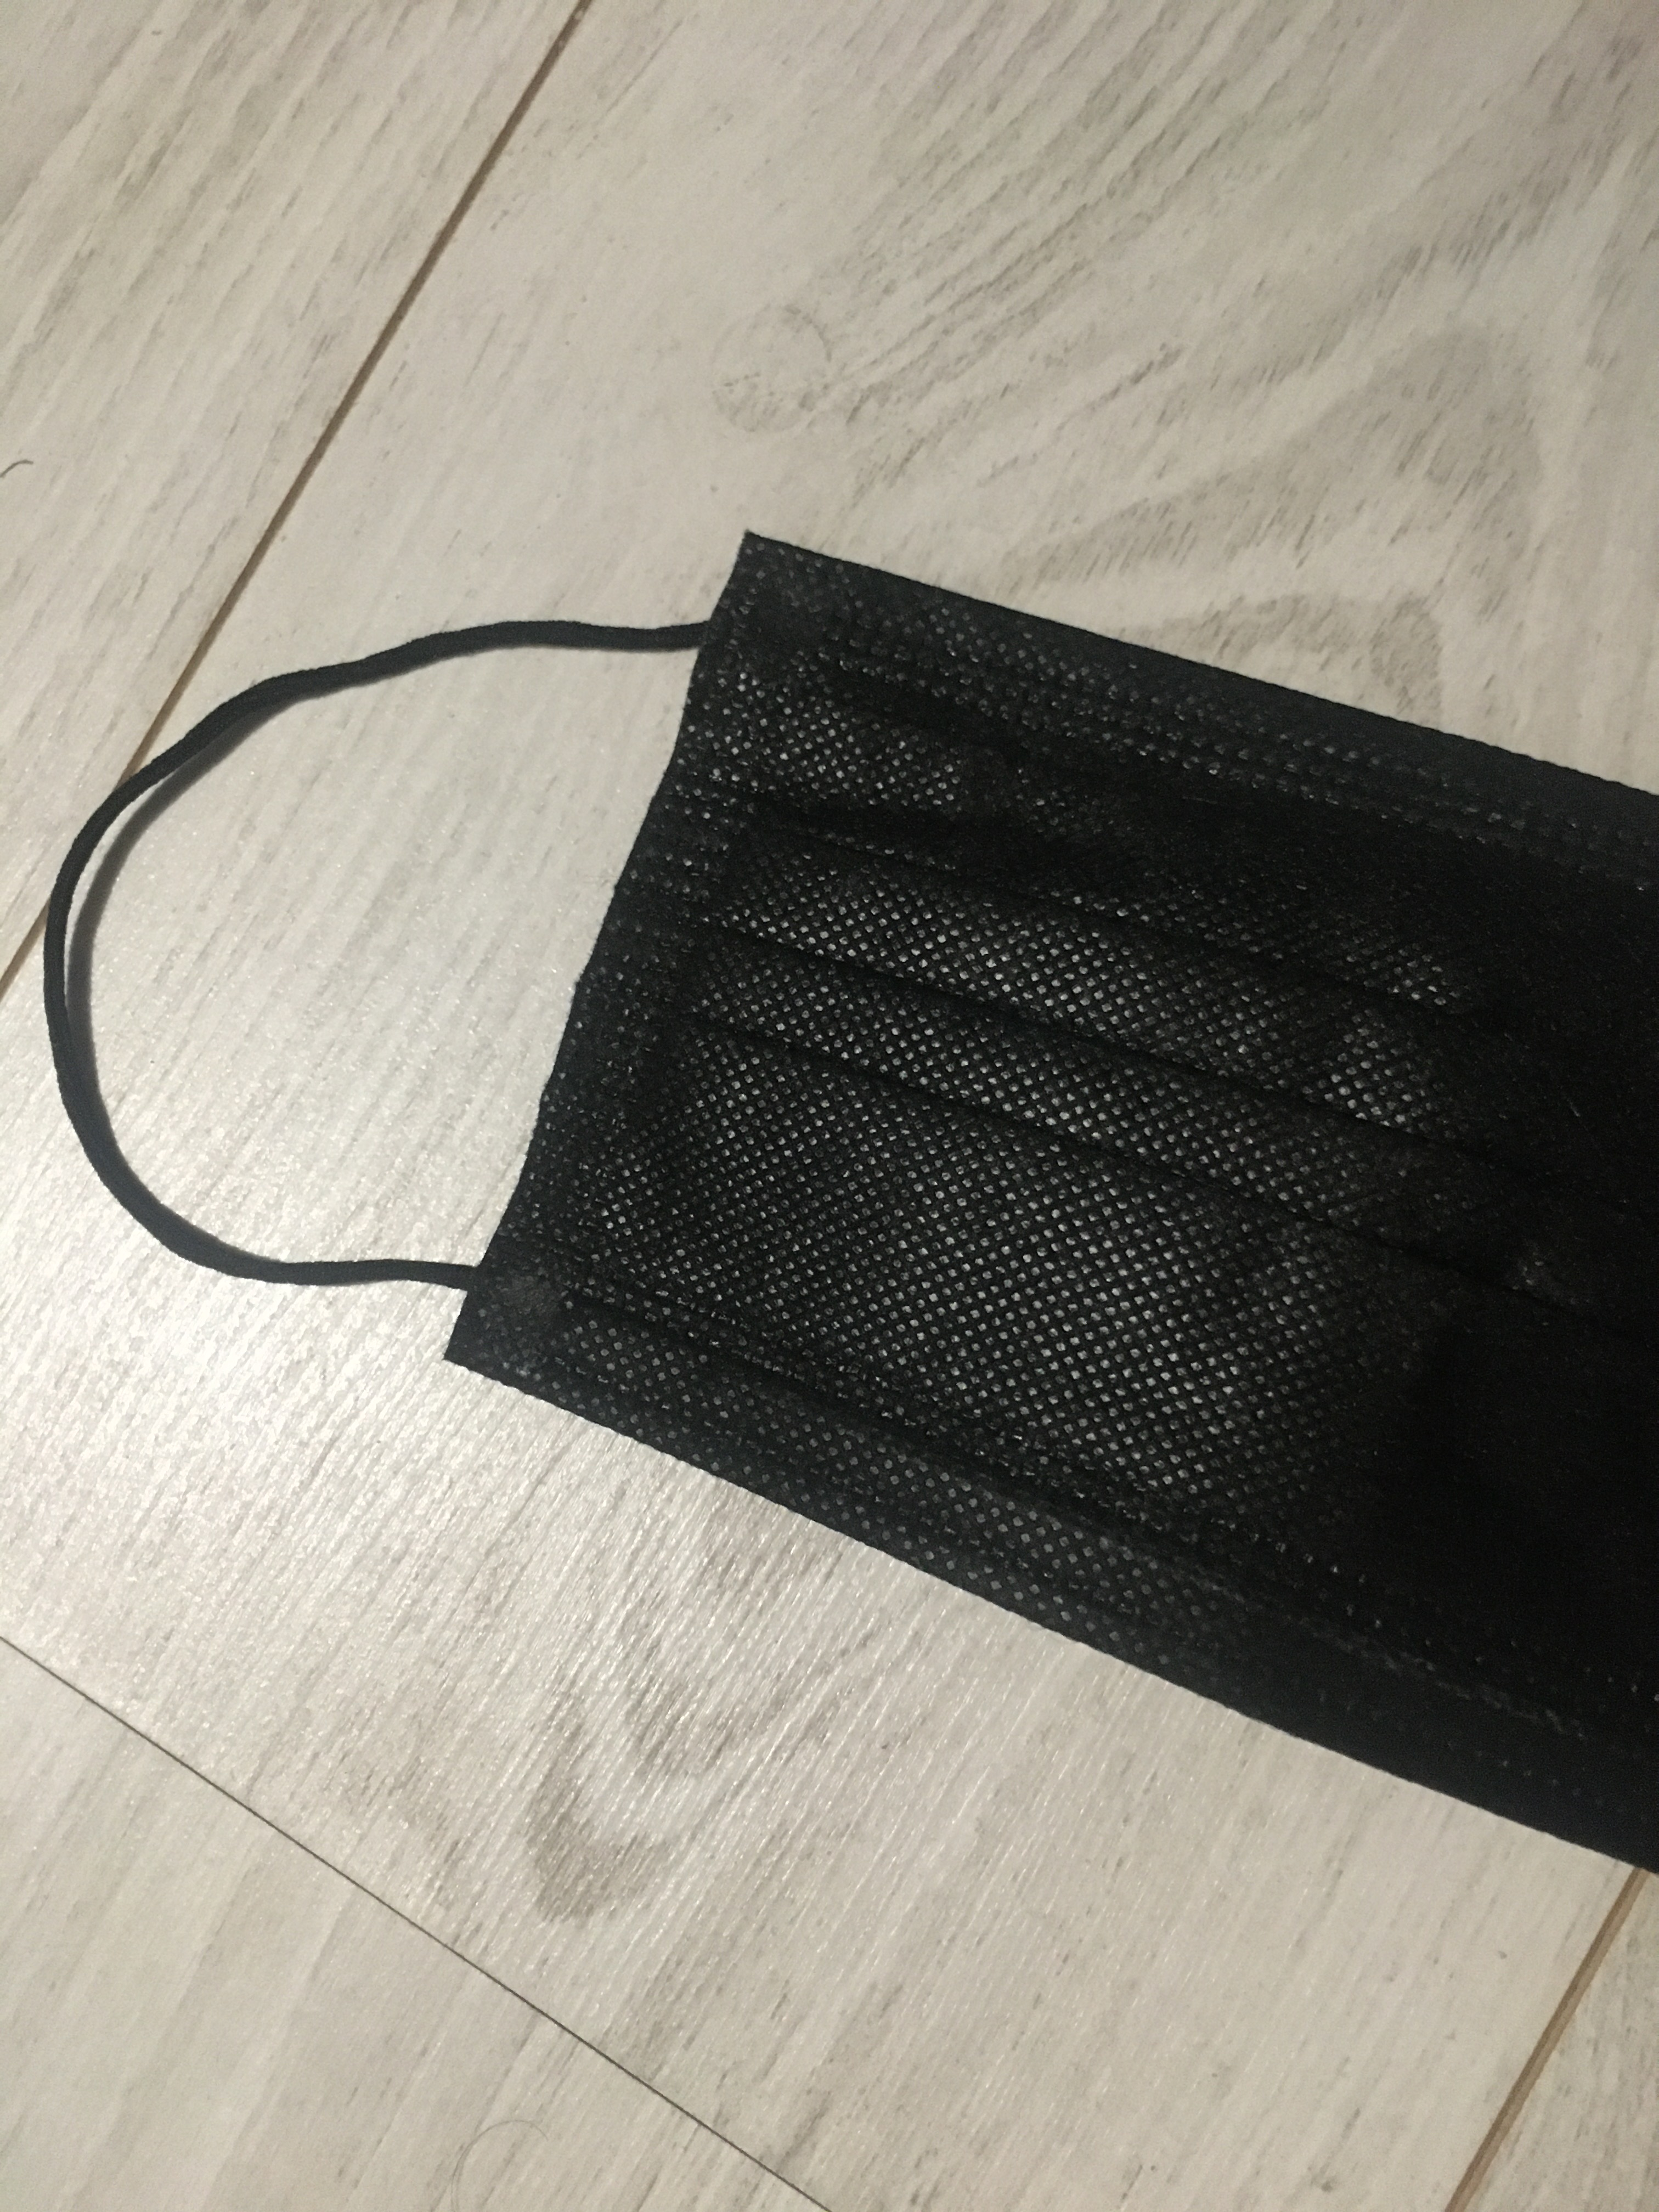trash: (45, 531, 1659, 1876)
